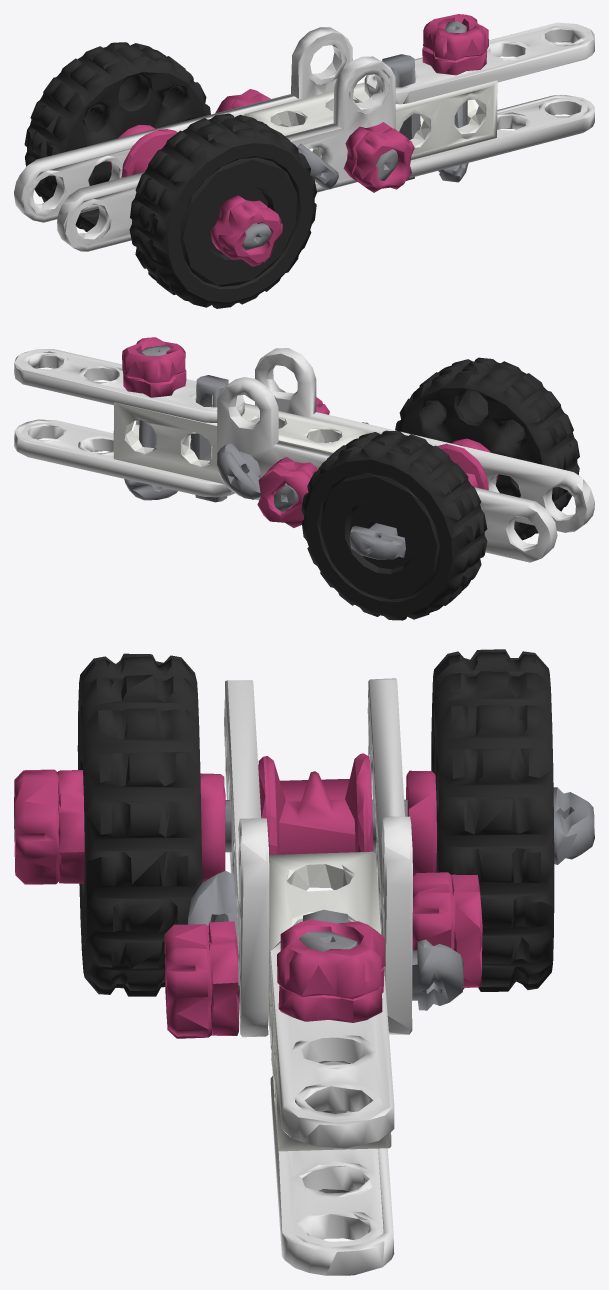
File: state11.fbx
3 views of the same model, one above another, from view 1: azimuth 30°, elevation 25°; view 2: azimuth 150°, elevation 25°; view 3: azimuth 270°, elevation 25° (orthographic). The views are drawn at different scales.
Visible parts, largest first — view 1: Brace AGD 90 ASYM ERR BU02x06x01x00.25 - SPN-BRC-1003 (stemf; view 2: Brace AGD 90 ASYM ERR BU02x06x01x00.25 - SPN-BRC-1003 (stemf; view 3: Brace AGD 90 ASYM ERR BU02x06x01x00.25 - SPN-BRC-1003 (stemf.
Boxes of the visible parts, x1=… form: Brace AGD 90 ASYM ERR BU02x06x01x00.25 - SPN-BRC-1003 (stemf: x1=14, y1=14, x2=594, y2=308; Brace AGD 90 ASYM ERR BU02x06x01x00.25 - SPN-BRC-1003 (stemf: x1=14, y1=337, x2=594, y2=620; Brace AGD 90 ASYM ERR BU02x06x01x00.25 - SPN-BRC-1003 (stemf: x1=14, y1=649, x2=594, y2=1275.
Size of the model in its own units: 12481 by 3739 by 6324.
